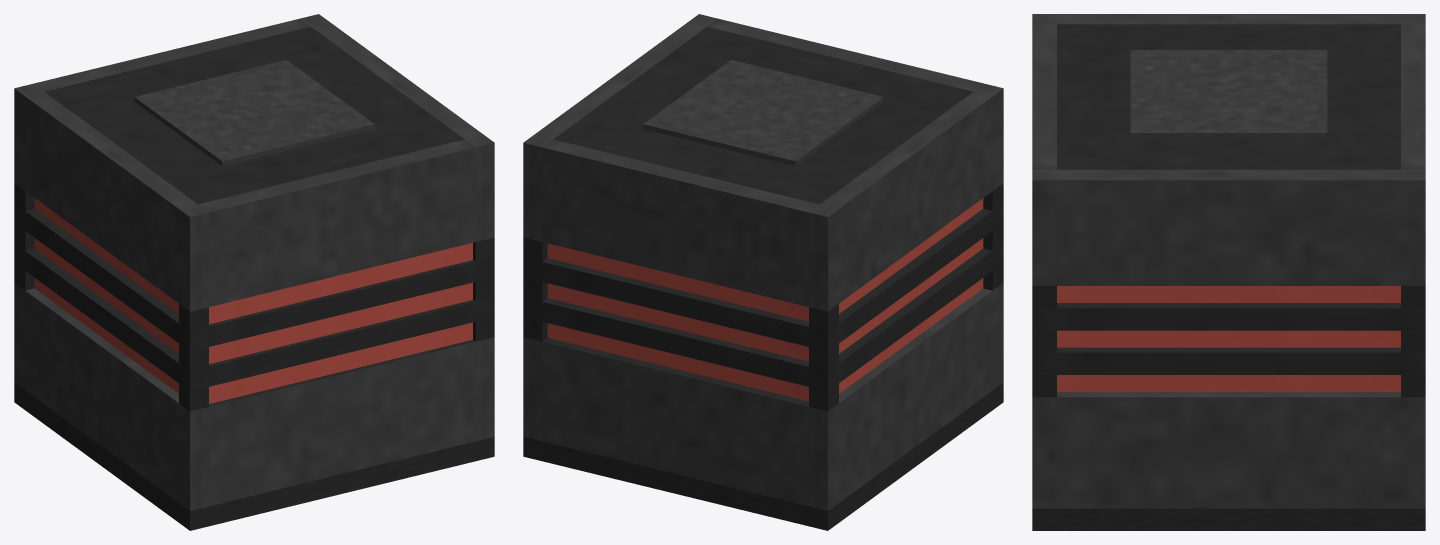
Rendered from biometricIdentifier.obj.
3 views of the same model, side by side, from view 1: azimuth 30°, elevation 25°; view 2: azimuth 150°, elevation 25°; view 3: azimuth 270°, elevation 25° (orthographic). The views are drawn at different scales.
Visible parts, largest first — view 1: cube; view 2: cube; view 3: cube.
Part boxes in pixels (x1,y1,x2,y2): cube: (14, 14, 494, 530); cube: (523, 14, 1003, 530); cube: (1032, 14, 1425, 530).
Bounding box in the file's own units: 16 × 16 × 16.
